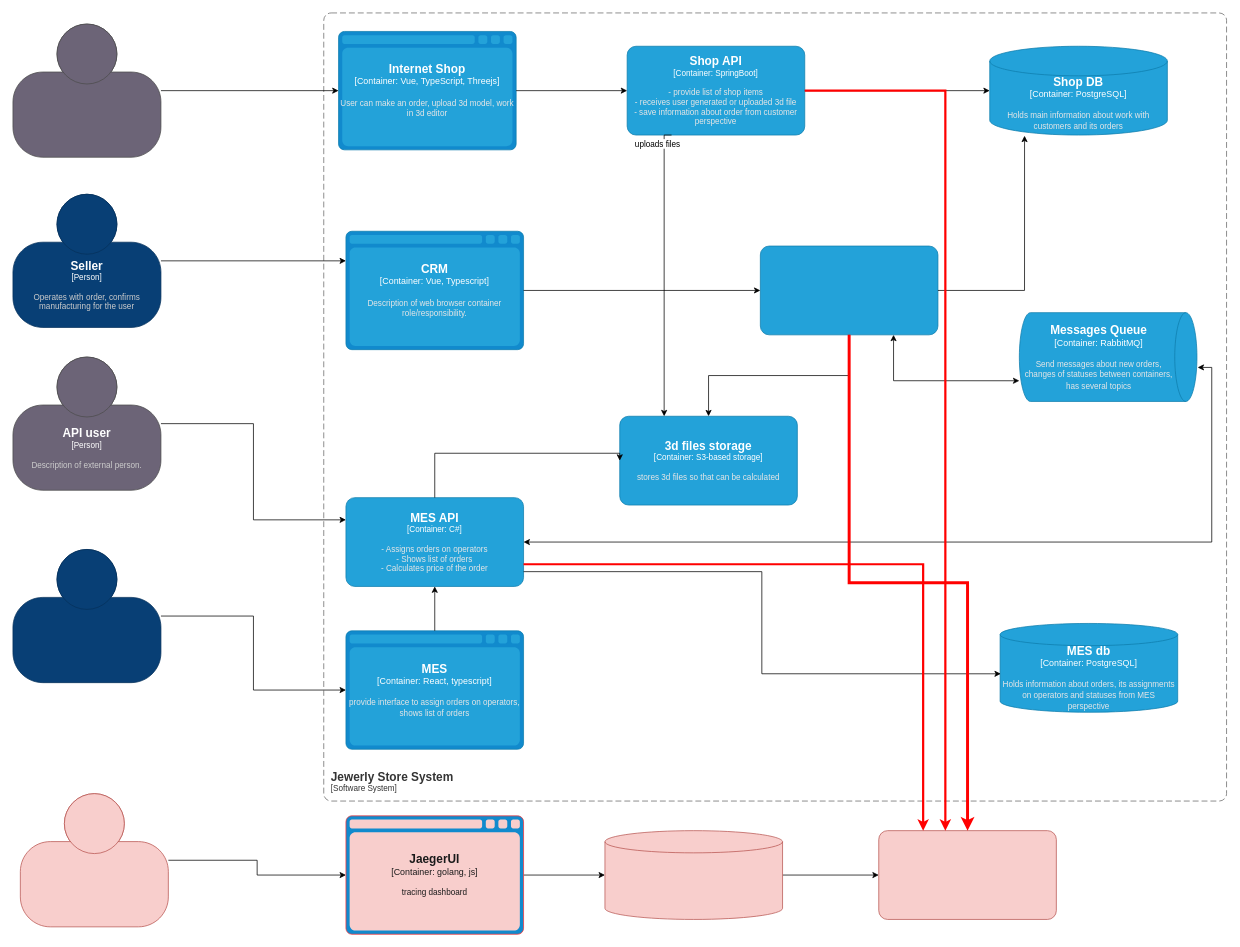
Some shapes in this 1240 by 947 pixel diagram are drawn without their labels. Here are the shapes that lost their labels. From the top down, the centre of each, then its label:
the point at 86,90: Customer [Person] Description of external person.
the point at 849,290: CRM API [Container: SpringBoot] Description of container role/responsibility.
the point at 86,616: Operator [Person] Takes order in work, manufactures jewerly
the point at 94,860: SRE, DevOps [Person] internal user
the point at 693,874: Jaeger DB [Container: CassandraDB] Traces storage
the point at 967,874: Jaeger collector [Container: OpenTelemetry] Collect traces
